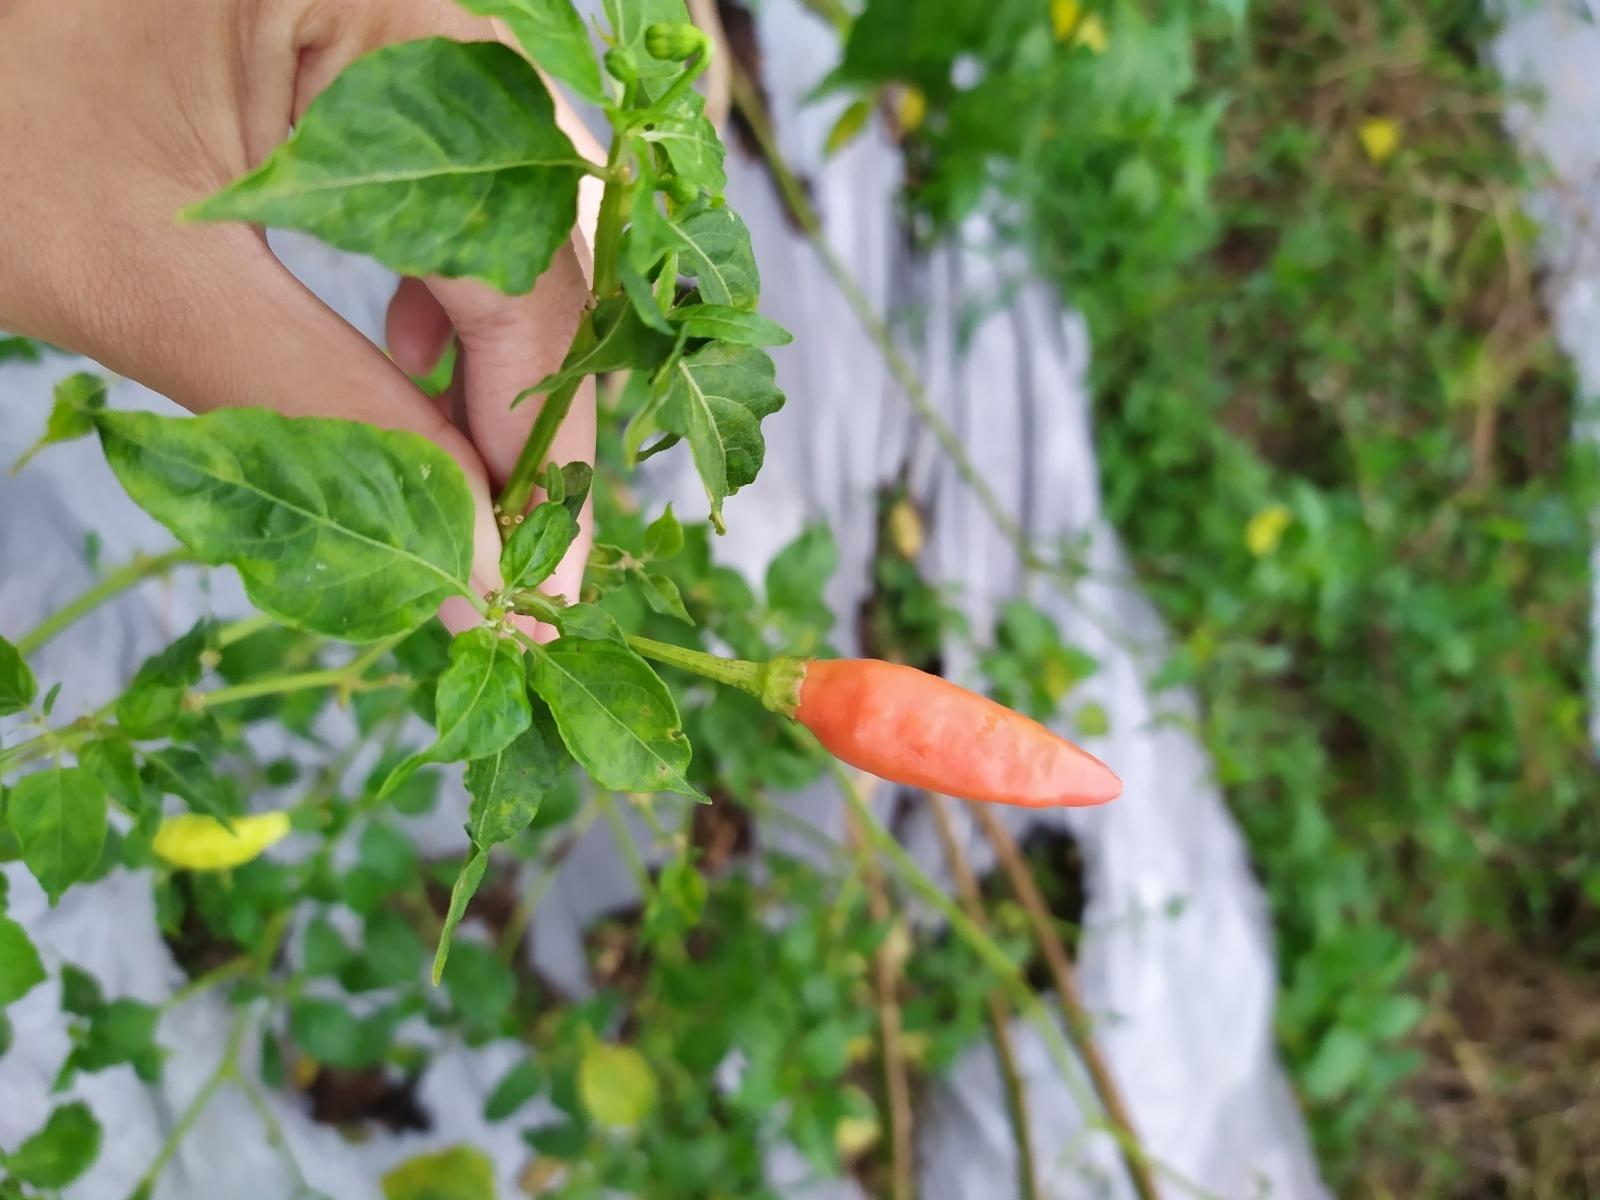cabai_normal: (789, 658, 1123, 809), (148, 809, 292, 869)
